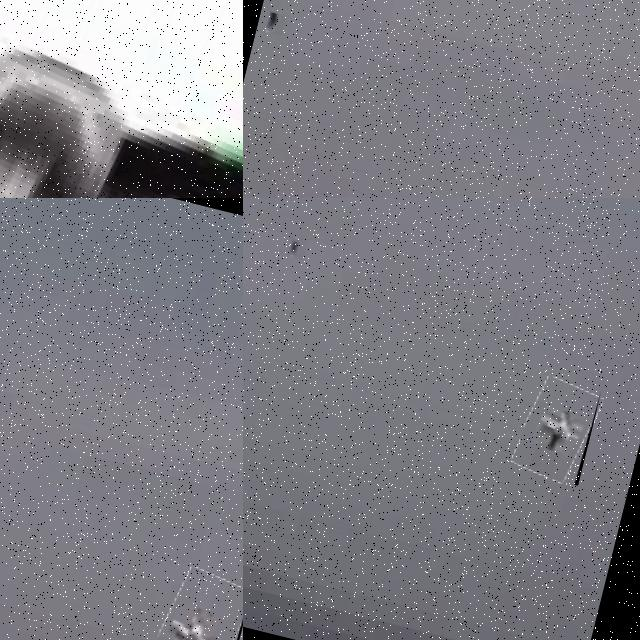drone: (0, 0, 243, 198), (512, 374, 601, 485), (144, 564, 243, 640)
